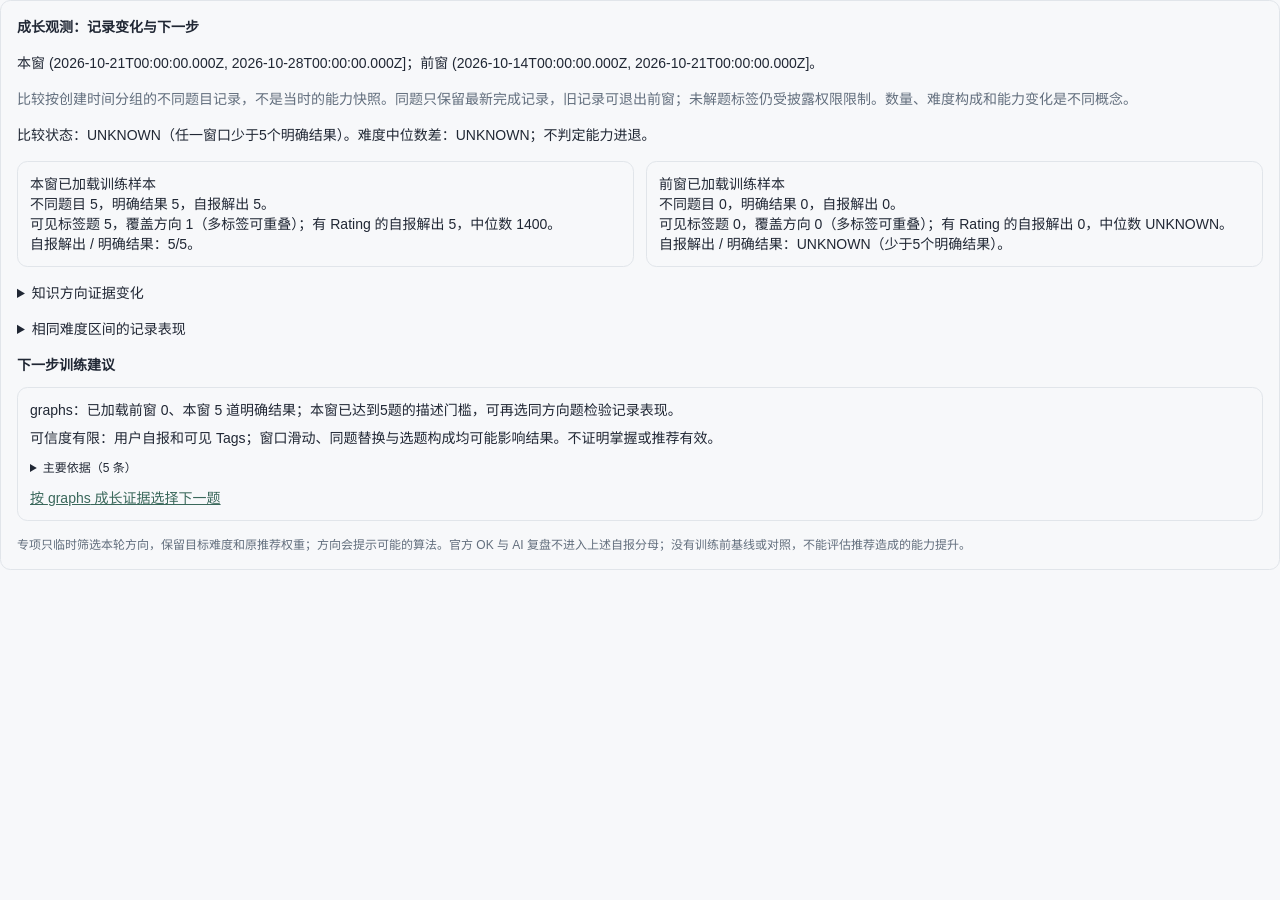
Test: new topic evidence links to the original explicit focus and explains counts, limits and unchanged goals
The image size is (1280, 900).
Expected: the text "graphs：已加载前窗 0、本窗 5 道明确结果；本窗已达到5题的描述门槛，可再选同方向题检验记录表现。" is shown, [30, 402, 682, 418]
Expected: the text "保留目标难度和原推荐权重" is shown, [17, 538, 971, 552]
Click the heading "知识方向证据变化".
click(88, 293)  # box [32, 285, 144, 301]
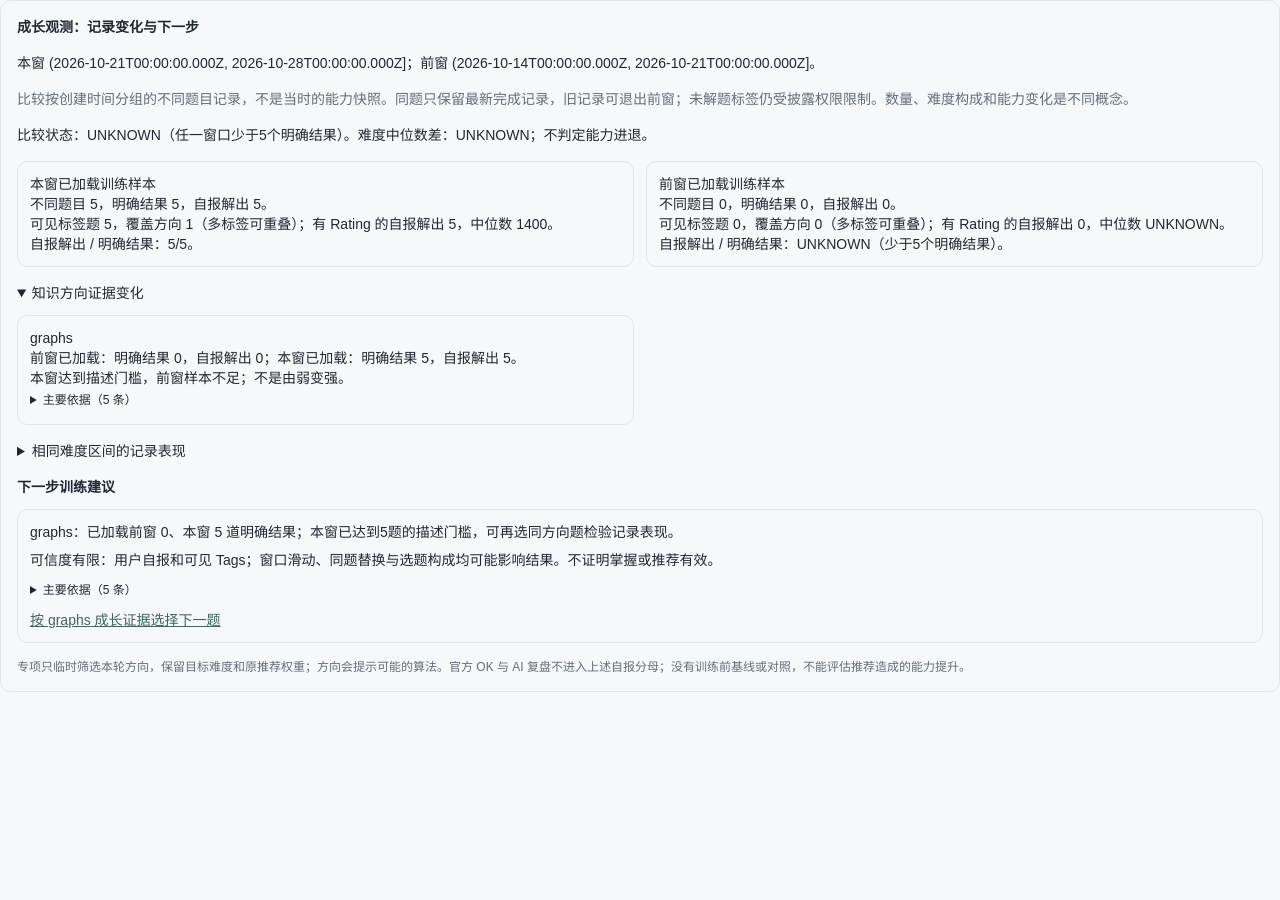
Expected: the text "本窗达到描述门槛，前窗样本不足；不是由弱变强。" is shown, [30, 370, 352, 386]
